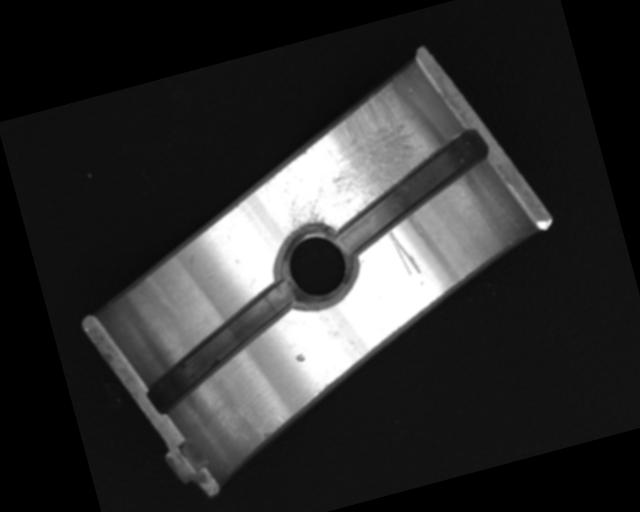bruise: (292, 351, 306, 363)
gap: (129, 277, 317, 414), (320, 126, 506, 257)
hole: (266, 216, 367, 314)
nick: (387, 224, 422, 280)
scratch: (253, 79, 430, 239)
